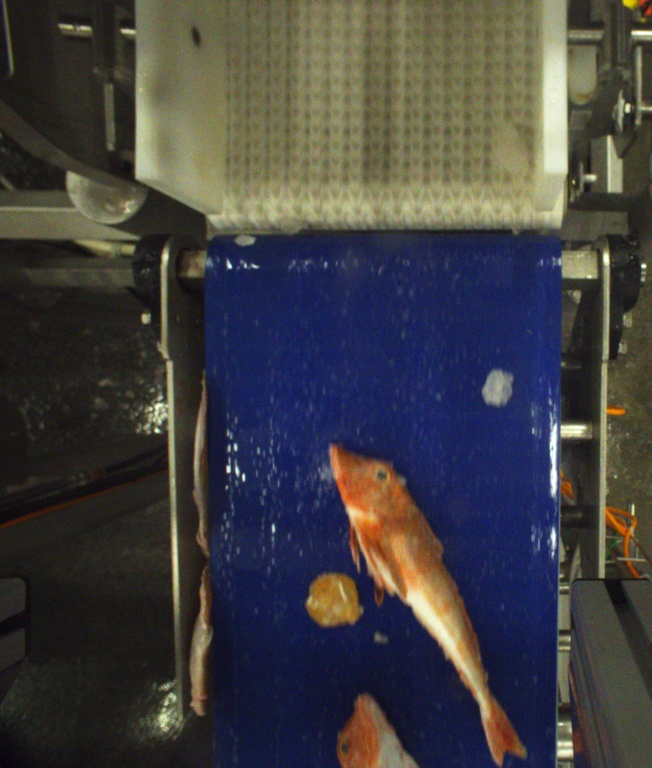GUU: (328, 441, 531, 762)
